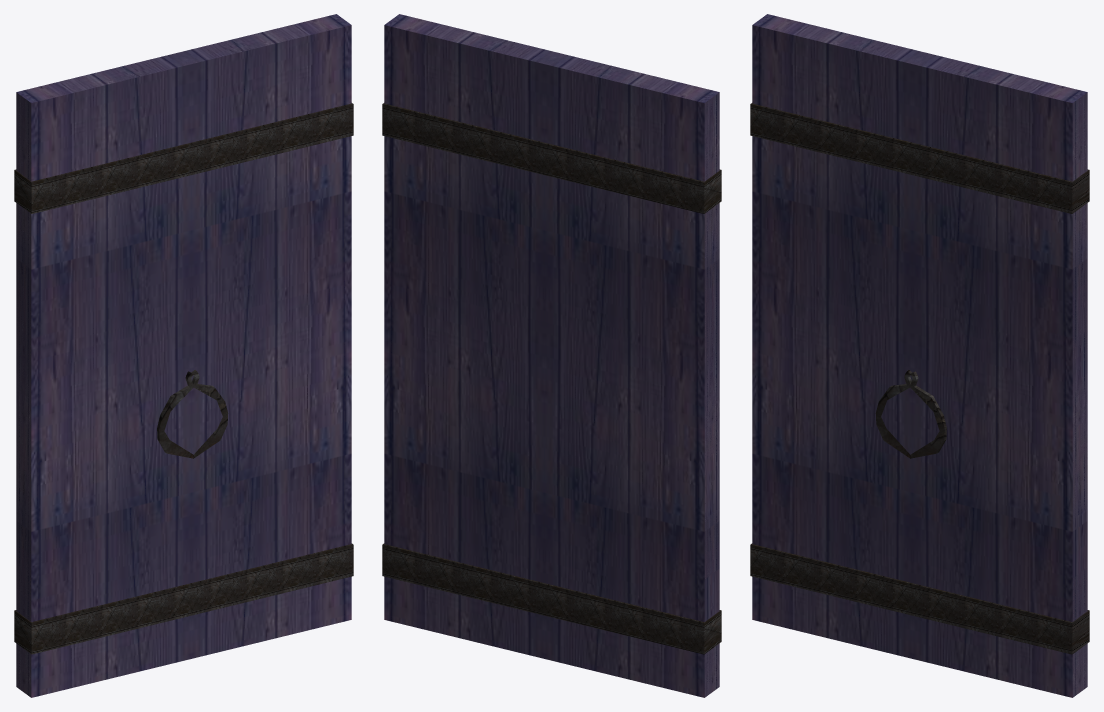
The model's file is BlueDoor.fbx.
3 renders of one model, left to right at view 1: azimuth 30°, elevation 25°; view 2: azimuth 150°, elevation 25°; view 3: azimuth 330°, elevation 25°, orthographic.
Parts seen in each view (by area): view 1: Door; view 2: Door; view 3: Door.
Part boxes in pixels (x1,y1,x2,y2): Door: [14, 14, 353, 697]; Door: [382, 14, 721, 697]; Door: [750, 14, 1089, 697].
Bounding box in the file's own units: 1032 × 1821 × 102.
4 materials, 4 textured.
